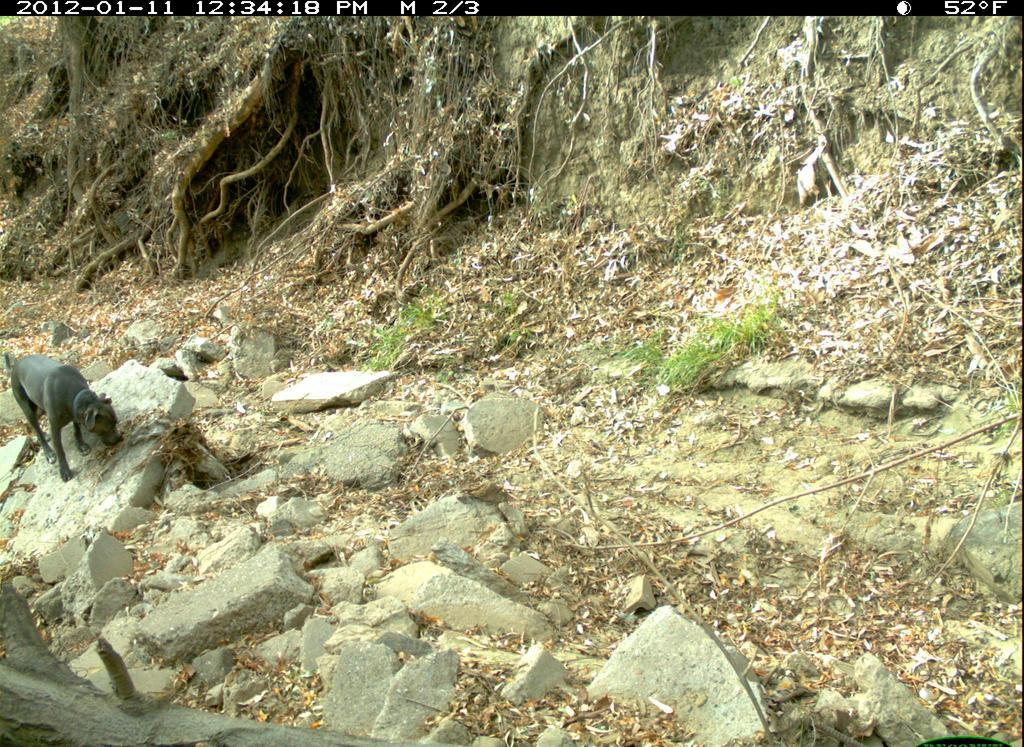dog: (8, 341, 141, 488)
